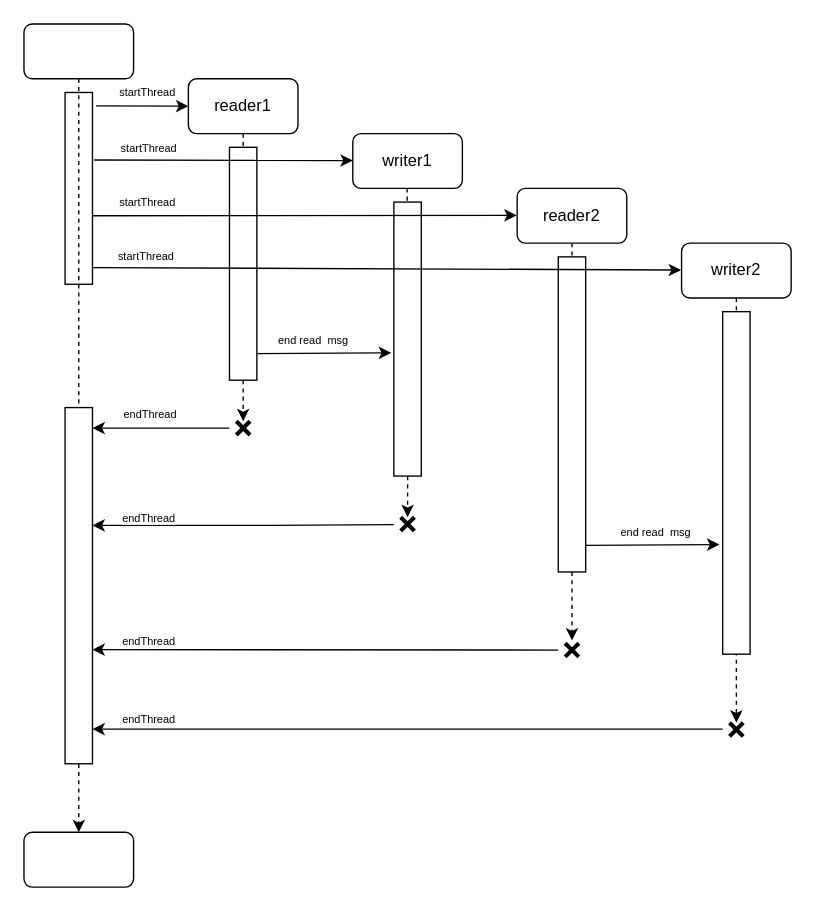
The diagram is 815 pixels wide and 911 high, and some of its shapes have lost their labels. The centre of each missing label's shape, as x and y in pixels:
EXIT: point 78,859
main: point 78,51
